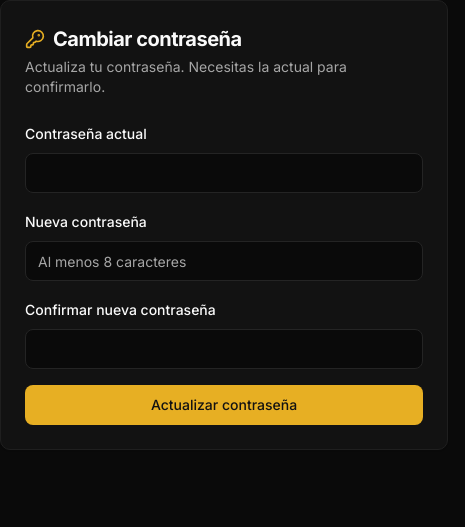
Test case: ChangePasswordForm › shows the server error when the change is rejected
In the password field labelled "Contraseña actual": (224, 173) [25, 153, 423, 193], type "wrong"
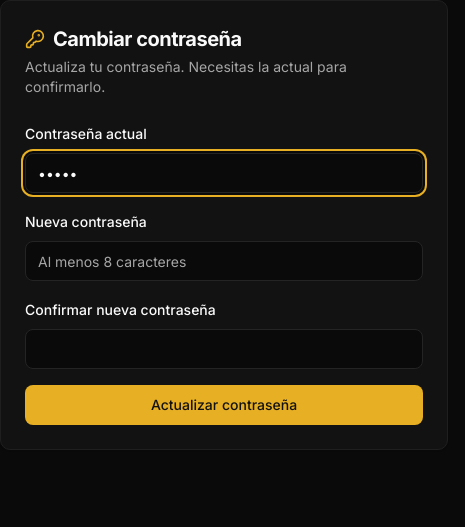
In the password field labelled "Nueva contraseña": (224, 261) [25, 241, 423, 281], type "newpass456"
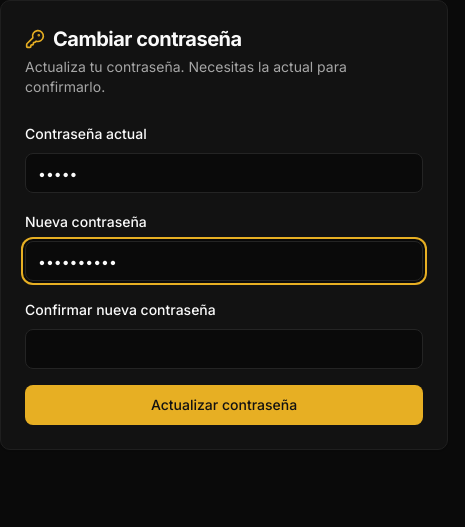
In the password field labelled "Confirmar nueva contraseña": (224, 349) [25, 329, 423, 369], type "newpass456"
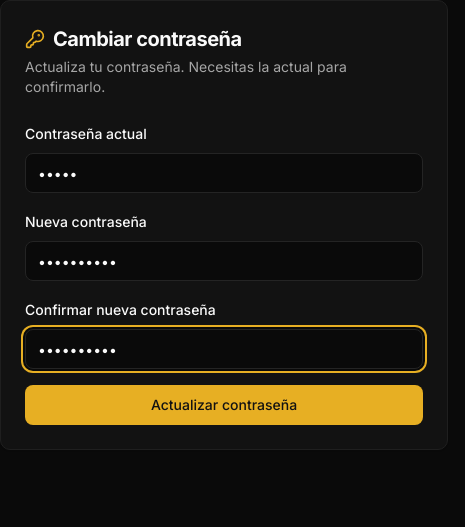
Click the button "Actualizar contraseña": (224, 405) [25, 385, 423, 425]
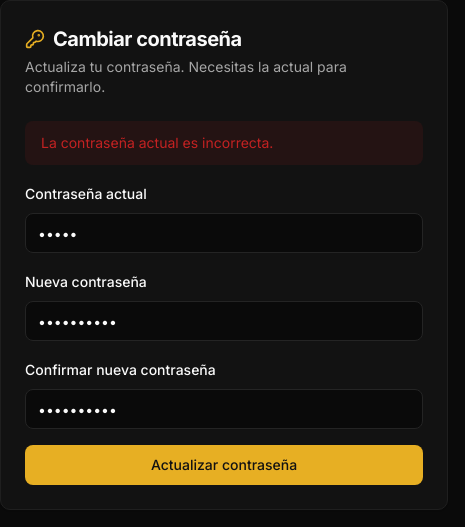
expect the text "La contraseña actual es incorrecta." is shown: met, box [25, 121, 423, 165]
